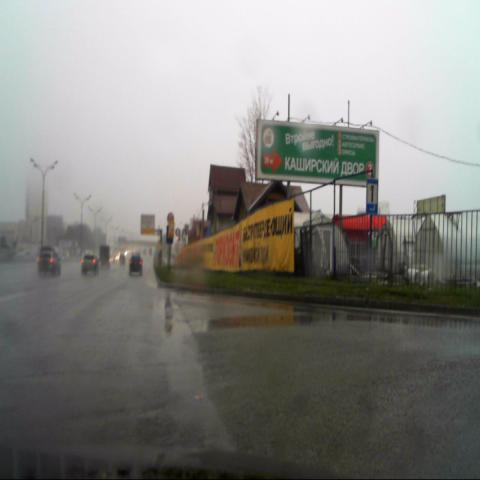7_4: (366, 179, 378, 214)
